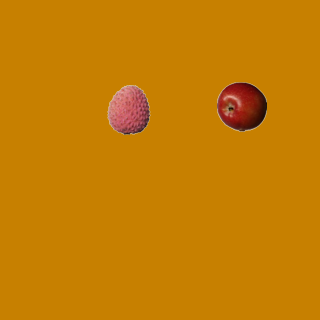Apple Braeburn: (216, 81, 266, 131)
Lychee: (103, 84, 153, 134)
